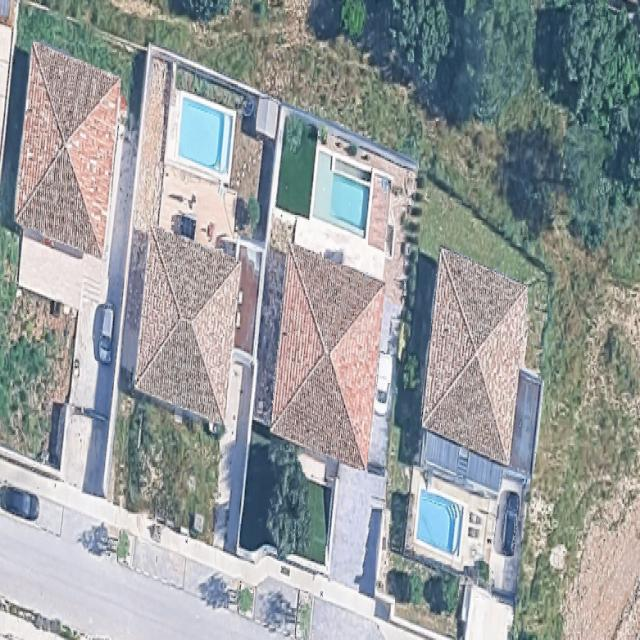maison: (411, 249, 538, 465), (267, 244, 387, 468), (11, 42, 122, 257), (132, 228, 241, 420)
